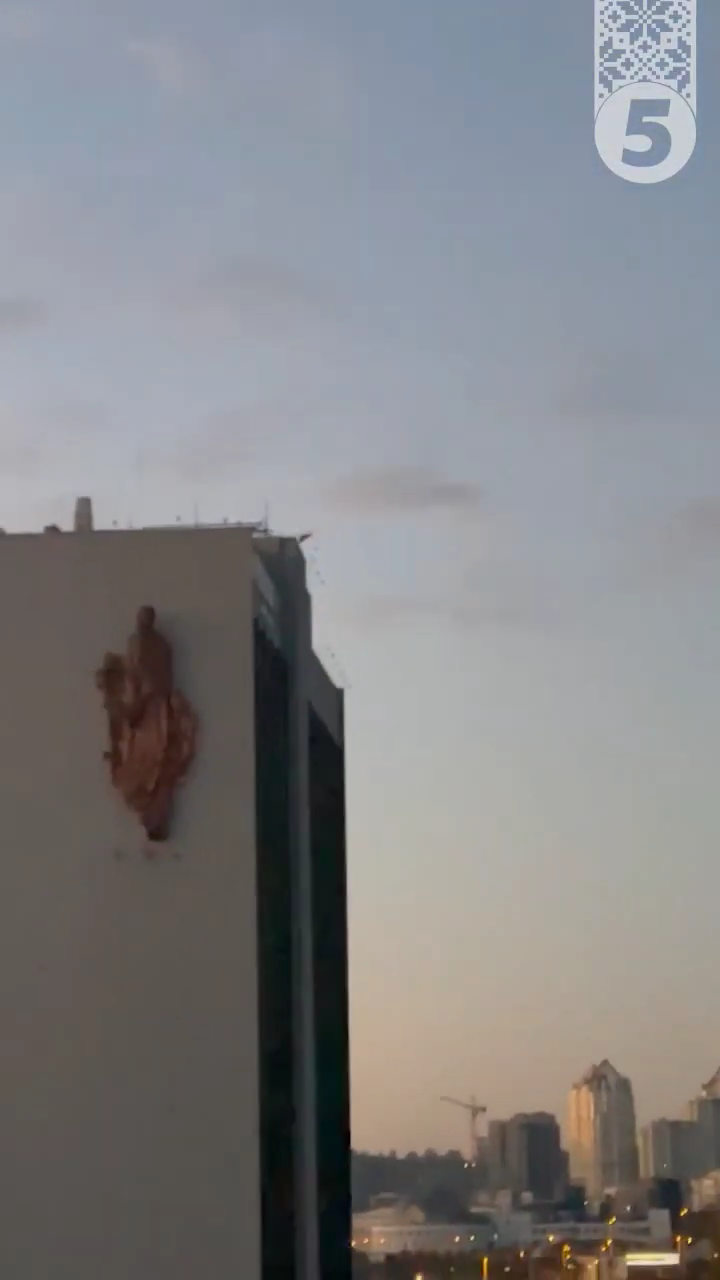shahed: (297, 529, 315, 545)
